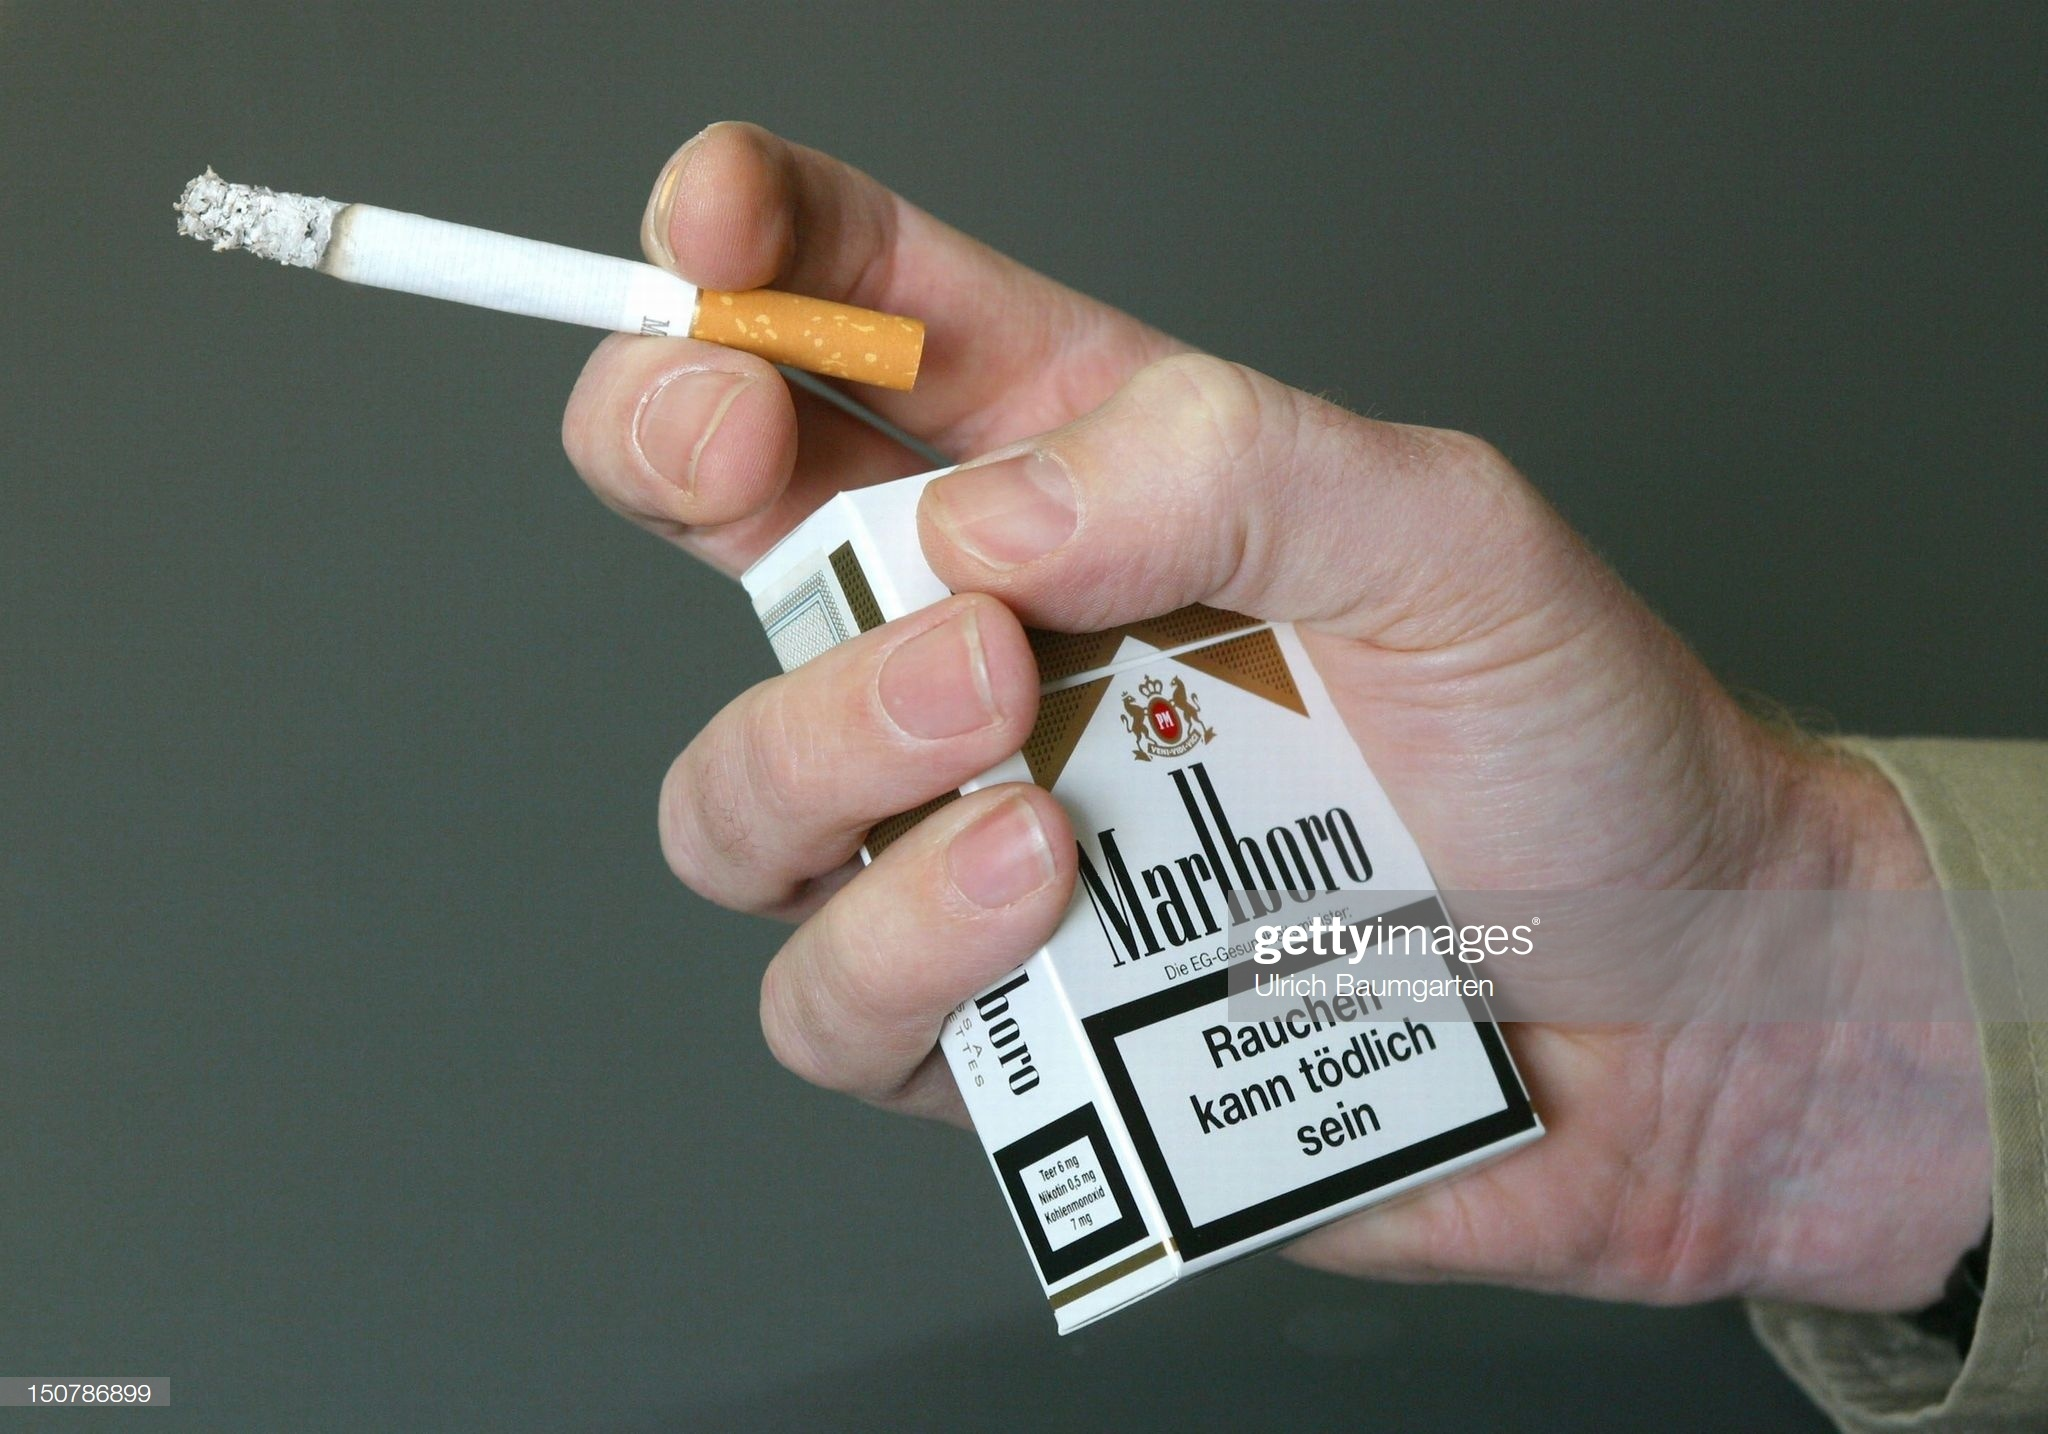sigaretta: (140, 171, 909, 392)
